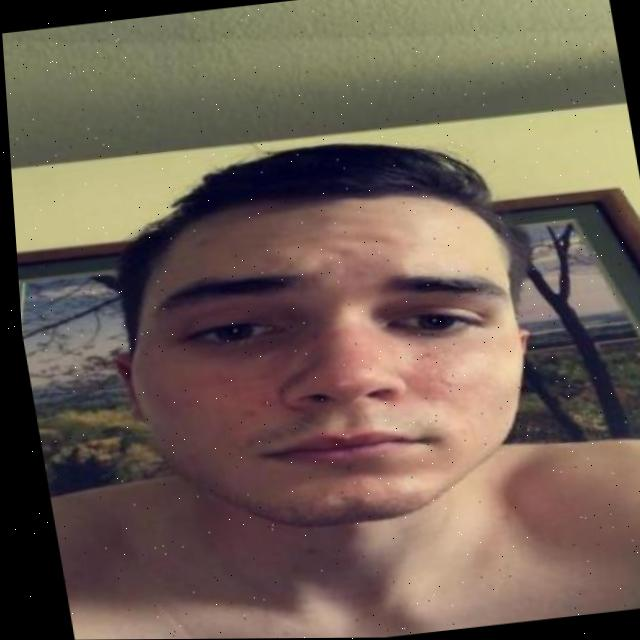Acne: (400, 347, 450, 395)
